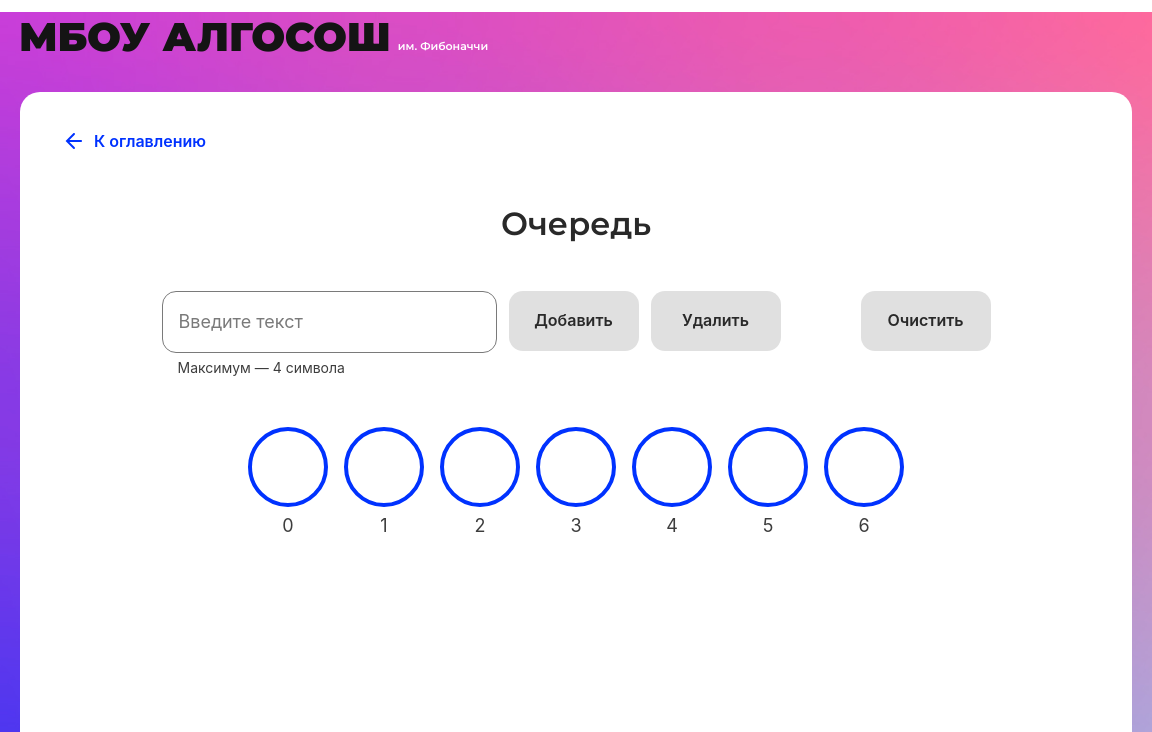
testing queue page › adding to queue works properly
Type "1" into the field with placeholder "Введите текст". click: x=330, y=322
box: [162, 291, 497, 353]
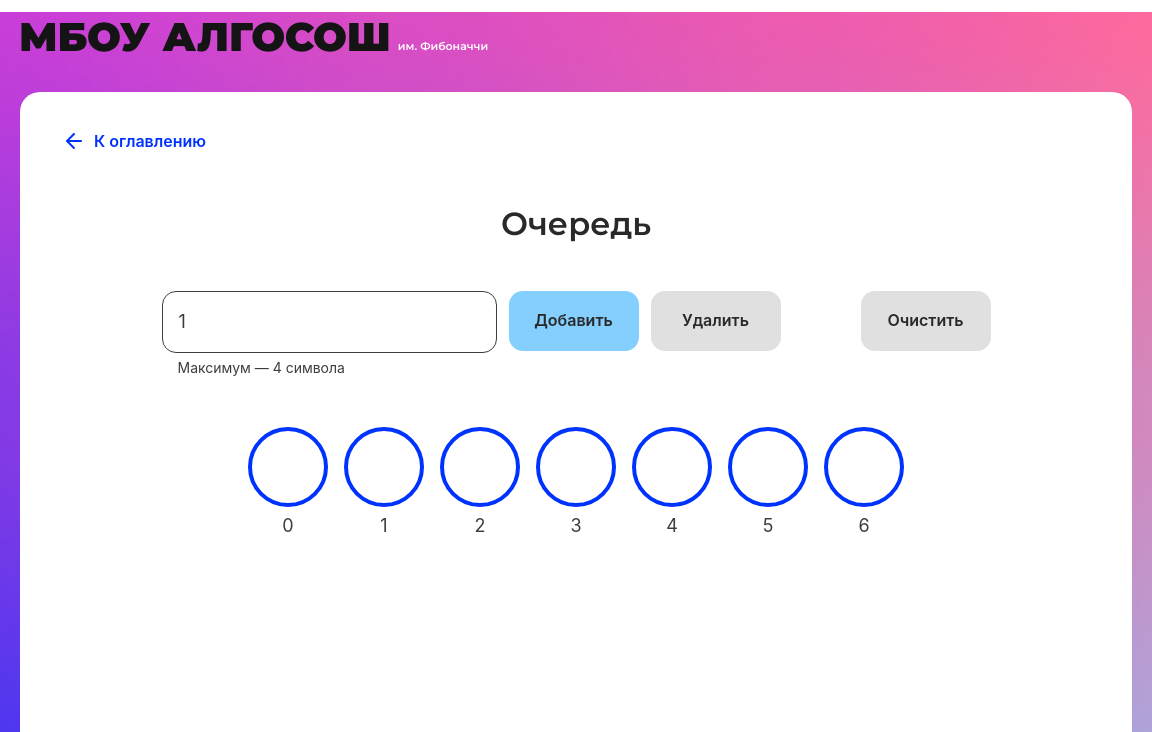
Click the button with test id "addToQueueButton". click: x=574, y=321
box: [509, 291, 639, 351]
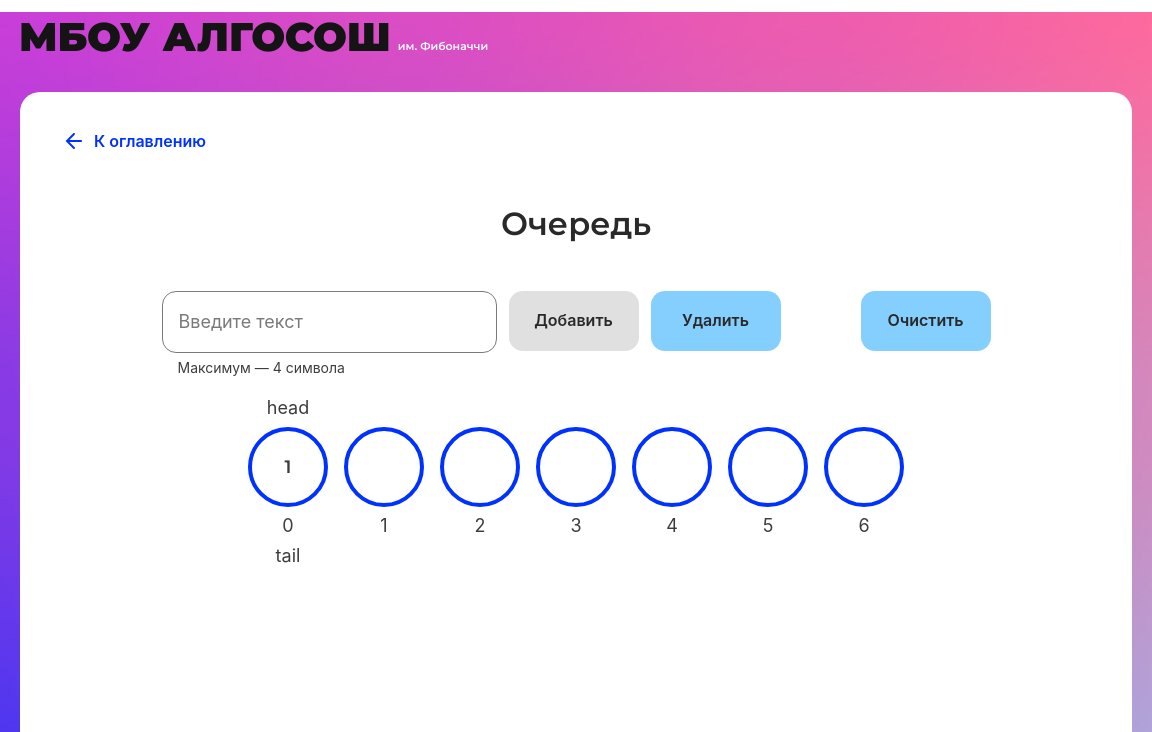
Expected: the text with test id "circle" reads "1", [285, 456, 292, 478]
Expected: the text "head" is shown, [267, 397, 309, 419]
Expected: the text "tail" is shown, [276, 545, 300, 567]
Type "2" into the field with placeholder "Введите текст". click: x=330, y=322
box: [162, 291, 497, 353]
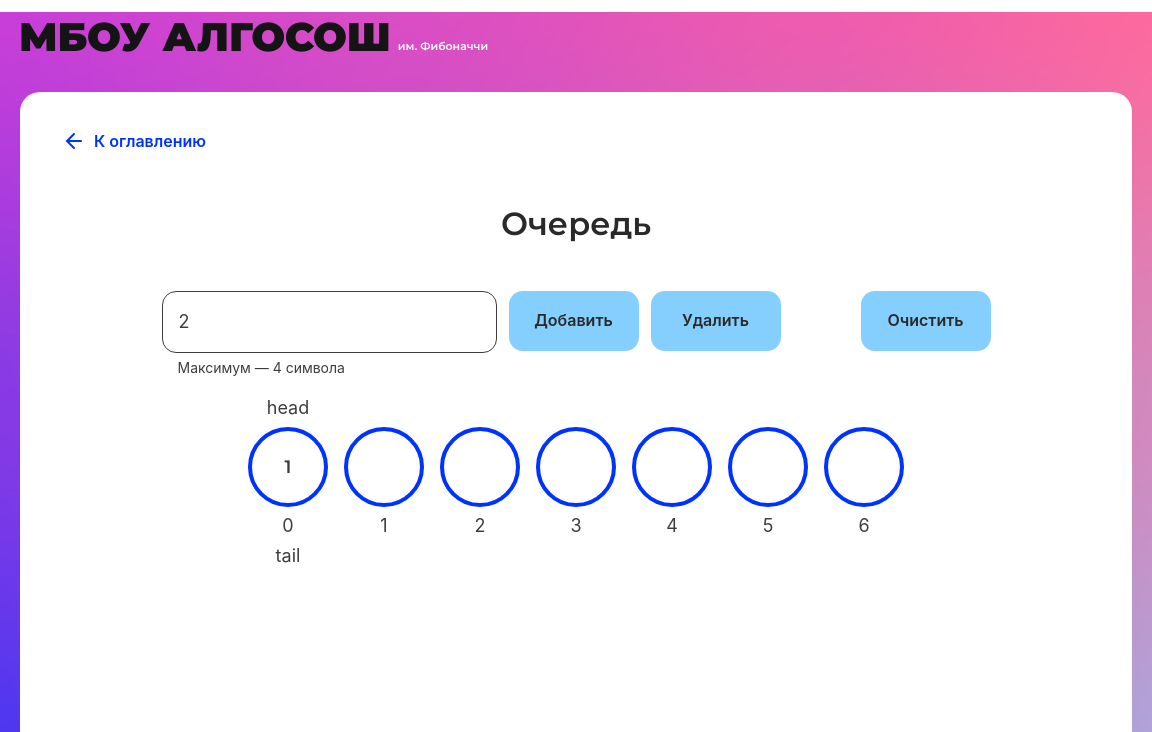
Click the button with test id "addToQueueButton". click: x=574, y=321
box: [509, 291, 639, 351]
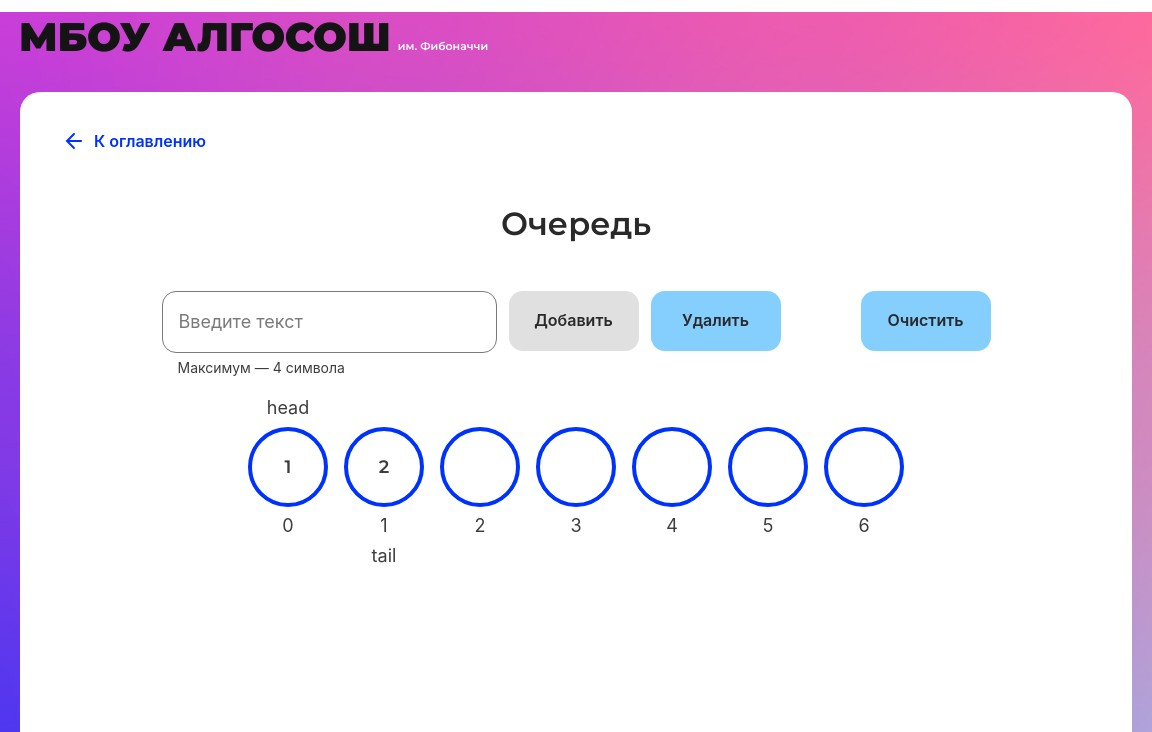
Expected: the text "head" is shown, [267, 397, 309, 419]
Expected: the text "tail" is shown, [372, 545, 396, 567]
Expected: the text with test id "circle" reads "2", [379, 456, 389, 478]
Type "3" into the field with placeholder "Введите текст". click: x=330, y=322
box: [162, 291, 497, 353]
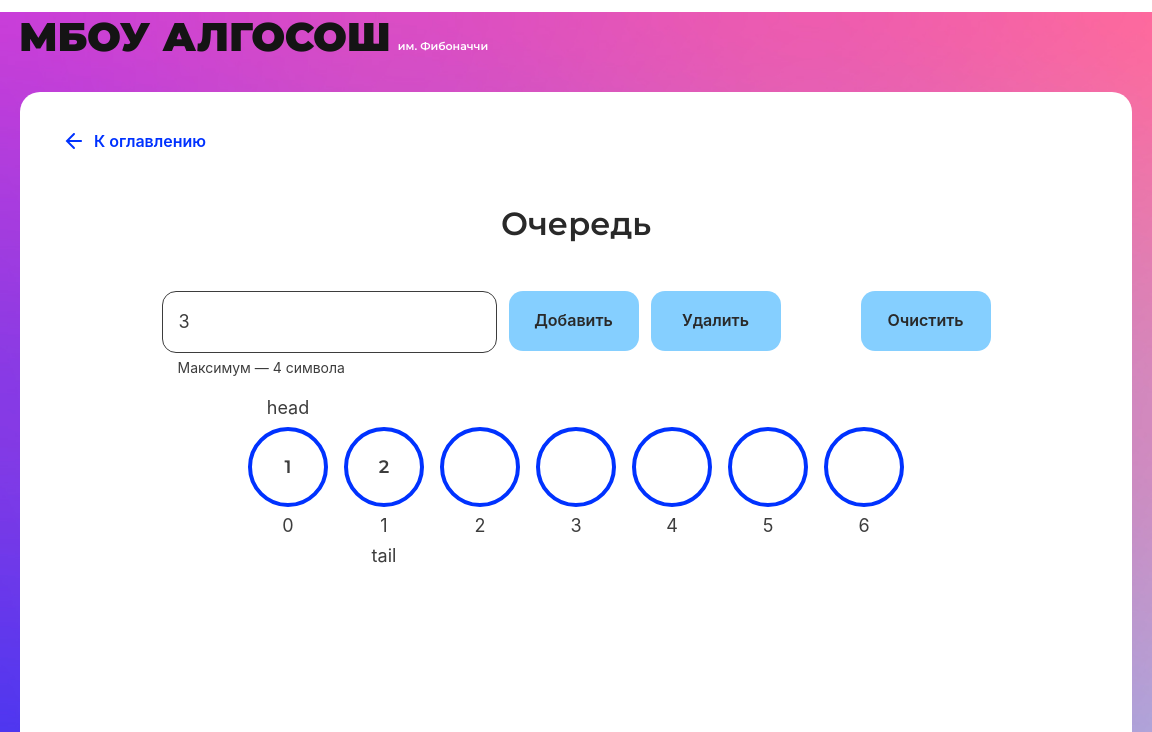
Click the button with test id "addToQueueButton". click: x=574, y=321
box: [509, 291, 639, 351]
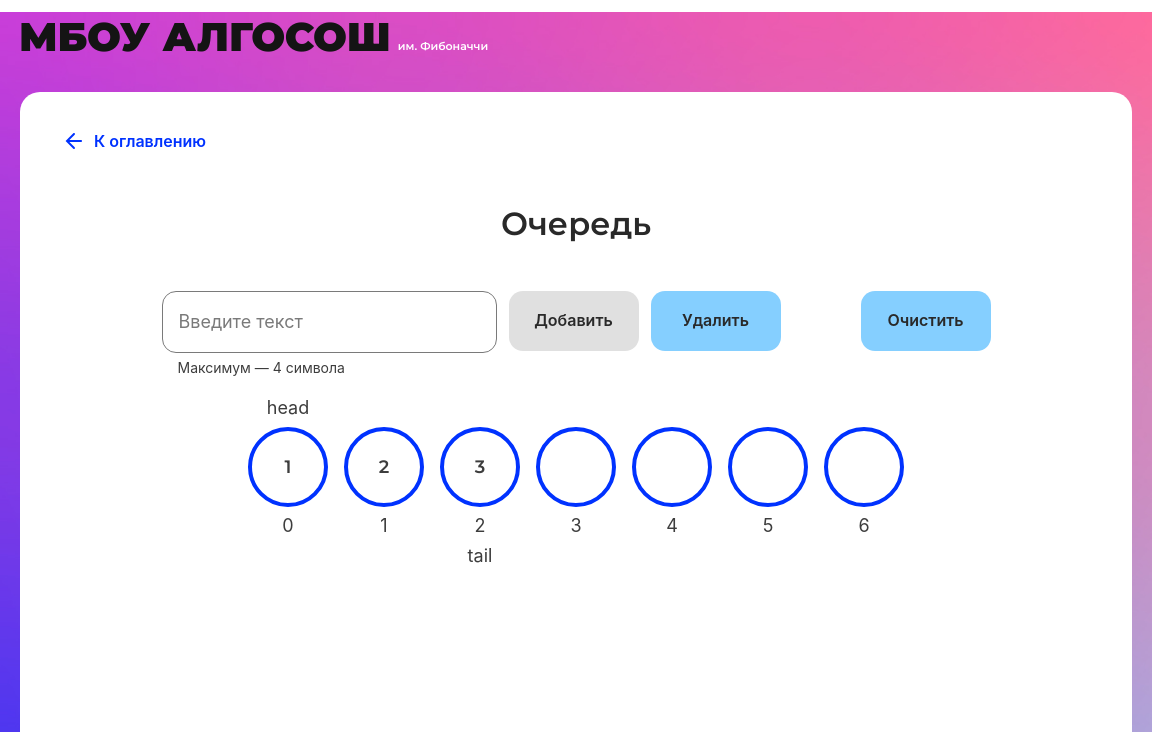
Expected: the text "head" is shown, [267, 397, 309, 419]
Expected: the text "tail" is shown, [468, 545, 492, 567]
Expected: the text with test id "circle" reads "3", [475, 456, 485, 478]
